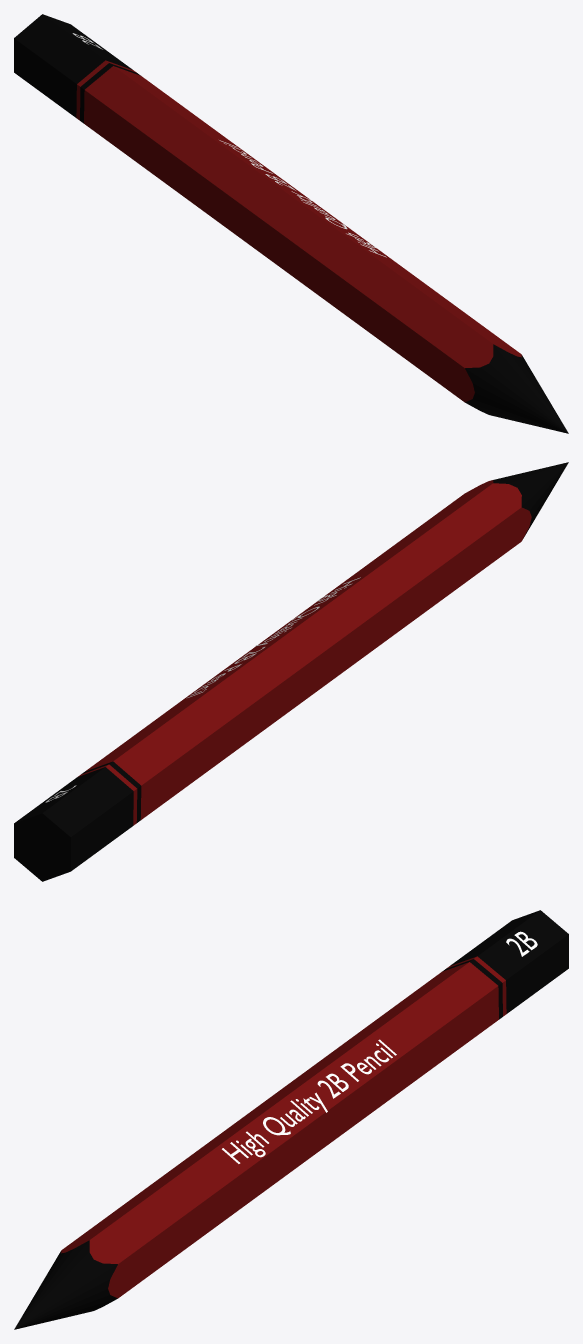
Rendered from pencil_model.glb.
3 renders of one model, top to bottom at view 1: azimuth 30°, elevation 25°; view 2: azimuth 150°, elevation 25°; view 3: azimuth 330°, elevation 25°, orthographic.
Visible parts, largest first — view 1: Circle, Text; view 2: Circle, Text; view 3: Circle, Text.
Boxes of the visible parts, x1,y1,x2,y2 form: Circle: (14, 14, 568, 433); Text: (219, 140, 386, 257); Circle: (14, 462, 568, 881); Text: (186, 577, 360, 698); Circle: (14, 910, 568, 1329); Text: (222, 1039, 396, 1163).
Bounding box in the file's own units: 0.6002 × 0.6814 × 9.47.
